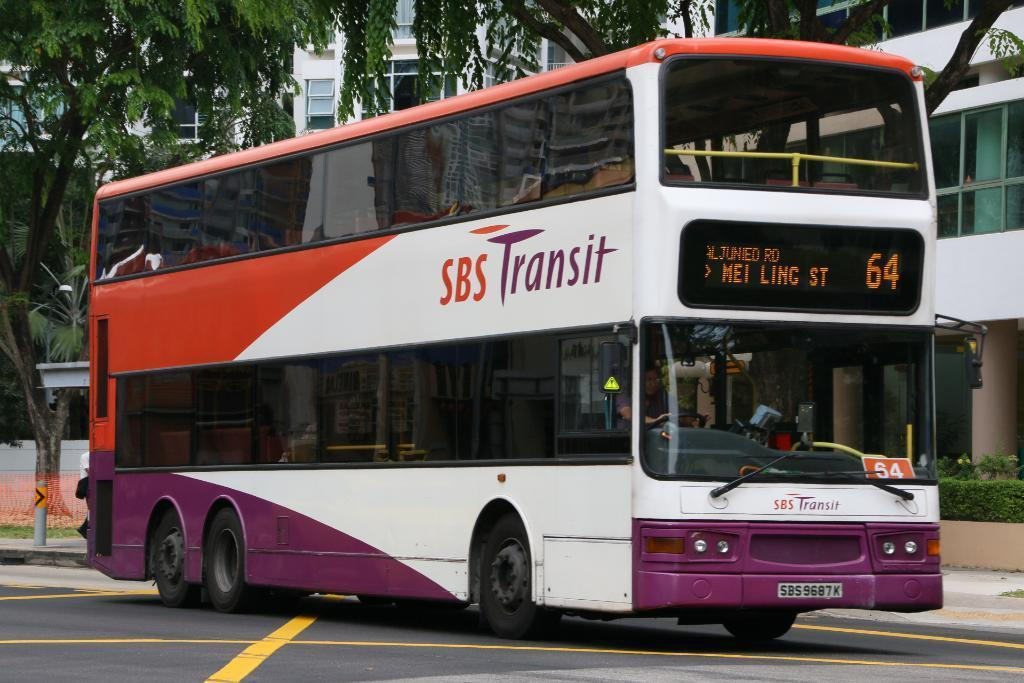Bus: (39, 49, 1024, 607)
Number plate: (768, 573, 850, 603)
